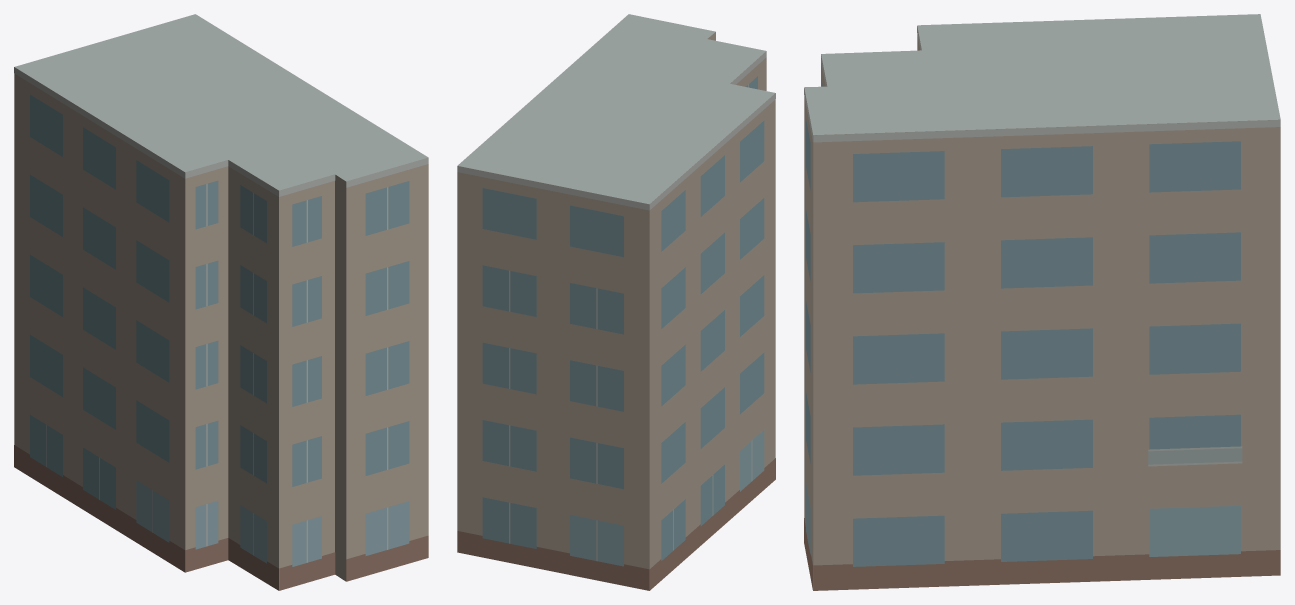
File: survey-upis-32778904.glb
3 views of the same model, side by side, from view 1: azimuth 30°, elevation 25°; view 2: azimuth 150°, elevation 25°; view 3: azimuth 270°, elevation 25° (orthographic). The views are drawn at different scales.
Parts seen in each view (by area): view 1: survey-upis-32778904.tmp; view 2: survey-upis-32778904.tmp; view 3: survey-upis-32778904.tmp.
Boxes of the visible parts, x1,y1,x2,y2 form: survey-upis-32778904.tmp: (14, 14, 428, 590); survey-upis-32778904.tmp: (457, 14, 775, 590); survey-upis-32778904.tmp: (804, 14, 1280, 590).
Bounding box in the file's own units: 8.7 × 15.25 × 14.47.
